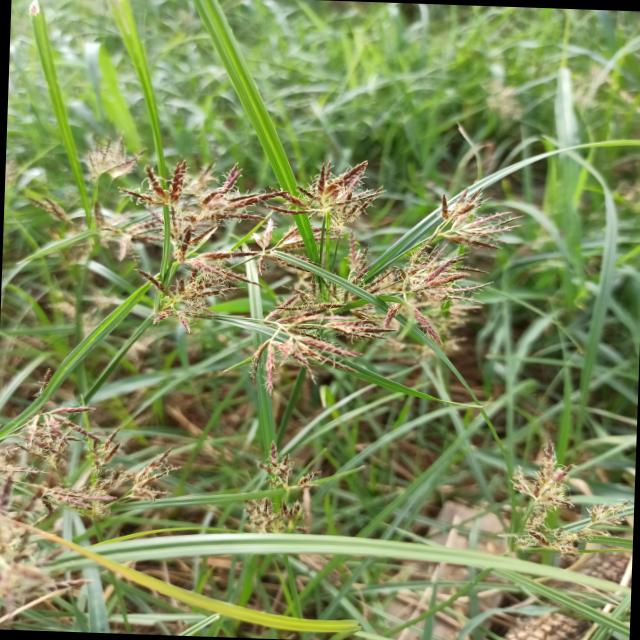cyperus: (120, 155, 509, 381), (0, 389, 161, 605), (486, 446, 636, 558), (67, 136, 164, 259), (234, 441, 320, 543)
